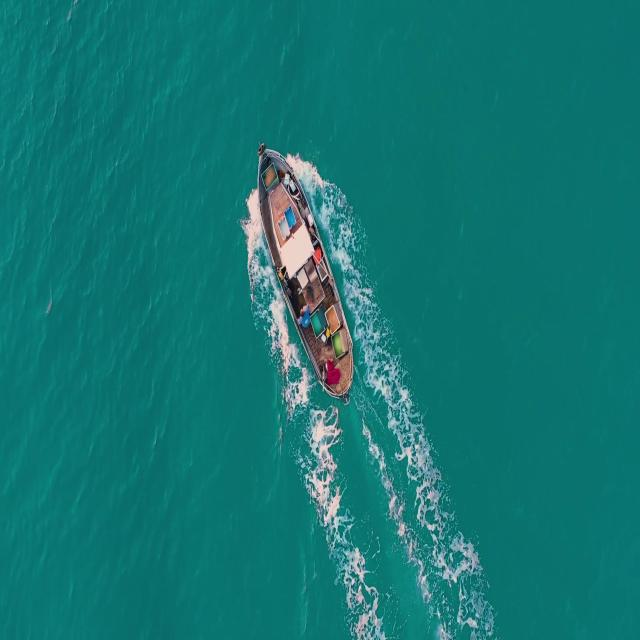ship: (251, 147, 361, 405)
